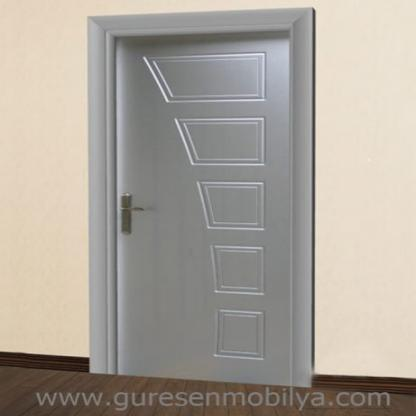door: (112, 36, 290, 384)
